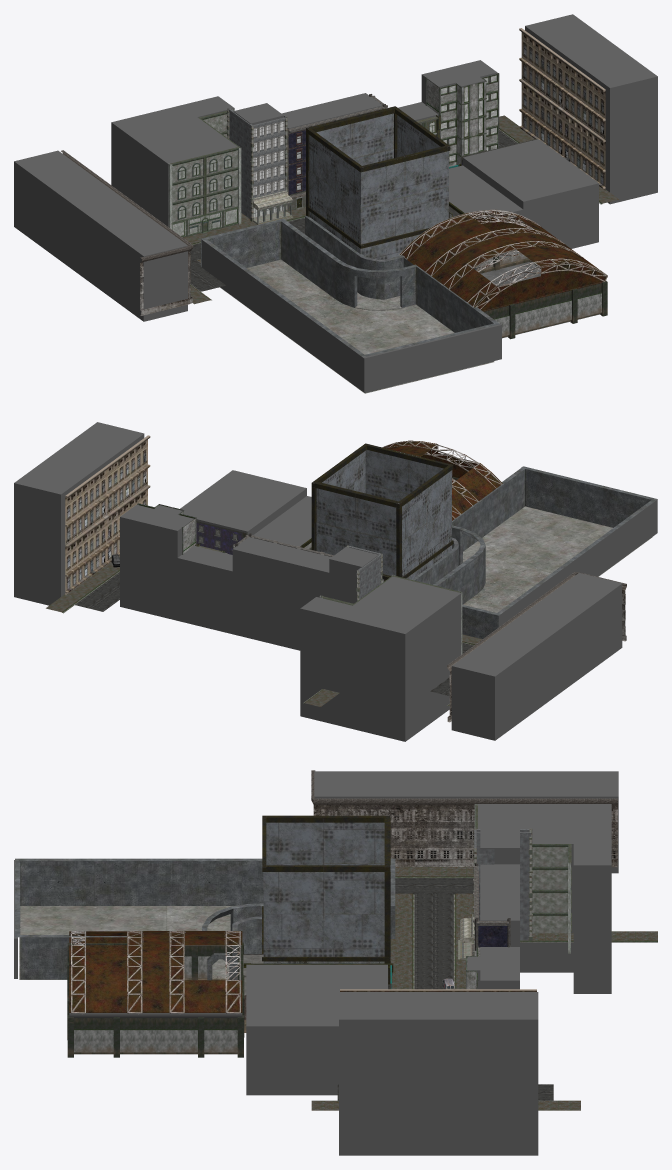
File: ghost_city.glb
3 renders of one model, top to bottom at view 1: azimuth 30°, elevation 25°; view 2: azimuth 150°, elevation 25°; view 3: azimuth 270°, elevation 25°, orthographic. The views are drawn at different scales.
Visible parts, largest first — view 1: BAKE_29, BLD_L_gedungM_26, BLD_L_gedungM_wall_28, BLD_L_gedungK_atap_19, BLD_L_gedungH_17, BLD_L_gedungM_floor_27, BLD_L_gedungF_15, BLD_L_gedungD_7, BLD_L_gedungK_dinding_21, BLD_L_gedungA_0, BLD_STR_jalanan_1_8, BLD_L_gedungI_18 (+6 smaller); view 2: BAKE_29, BLD_L_gedungM_26, BLD_L_gedungM_wall_28, BLD_L_gedungM_floor_27, BLD_L_gedungH_17, BLD_L_gedungK_atap_19, BLD_STR_jalanan_1_8, BLD_STR_jalanan_2_9, BLD_L_gedungI_18, BLD_L_gedungG_16, BLD_L_gedungA_0, BLD_L_gedungD_7; view 3: BAKE_29, BLD_L_gedungM_26, BLD_L_gedungM_wall_28, BLD_L_gedungK_atap_19, BLD_L_gedungI_18, BLD_L_gedungK_dinding_21, BLD_STR_jalanan_1_8, BLD_L_gedungM_floor_27, BLD_STR_jalanan_2_9, BLD_L_gedungF_15, BLD_L_gedungA_0, BLD_L_gedungA_part2_2 (+3 smaller).
Part boxes in pixels (x1,y1,x2,y2): BAKE_29: [14, 14, 657, 392]; BLD_L_gedungM_26: [306, 106, 450, 259]; BLD_L_gedungM_wall_28: [201, 216, 499, 392]; BLD_L_gedungK_atap_19: [399, 209, 607, 311]; BLD_L_gedungH_17: [519, 28, 605, 190]; BLD_L_gedungM_floor_27: [220, 259, 494, 393]; BLD_L_gedungF_15: [168, 109, 241, 237]; BLD_L_gedungD_7: [425, 73, 499, 166]; BLD_L_gedungK_dinding_21: [477, 228, 607, 339]; BLD_L_gedungA_0: [228, 108, 286, 218]; BLD_STR_jalanan_1_8: [183, 115, 618, 304]; BLD_L_gedungI_18: [61, 150, 193, 315]; BAKE_29: [14, 422, 657, 741]; BLD_L_gedungM_26: [311, 443, 453, 582]; BLD_L_gedungM_wall_28: [412, 466, 657, 639]; BLD_L_gedungM_floor_27: [463, 506, 652, 612]; BLD_L_gedungH_17: [65, 435, 150, 594]; BLD_L_gedungK_atap_19: [382, 440, 502, 520]; BLD_STR_jalanan_1_8: [46, 555, 481, 706]; BLD_STR_jalanan_2_9: [75, 572, 473, 695]; BLD_L_gedungI_18: [447, 572, 626, 722]; BLD_L_gedungG_16: [196, 521, 247, 554]; BLD_L_gedungA_0: [346, 545, 381, 599]; BLD_L_gedungD_7: [137, 503, 196, 554]; BAKE_29: [14, 771, 618, 1155]; BLD_L_gedungM_26: [262, 815, 390, 984]; BLD_L_gedungM_wall_28: [15, 858, 395, 980]; BLD_L_gedungK_atap_19: [69, 931, 242, 1014]; BLD_L_gedungI_18: [311, 770, 617, 867]; BLD_L_gedungK_dinding_21: [67, 942, 246, 1057]; BLD_STR_jalanan_1_8: [311, 867, 657, 1110]; BLD_L_gedungM_floor_27: [19, 906, 232, 979]; BLD_STR_jalanan_2_9: [337, 878, 553, 1100]; BLD_L_gedungF_15: [474, 804, 571, 953]; BLD_L_gedungA_0: [474, 829, 531, 940]; BLD_L_gedungA_part2_2: [458, 828, 532, 959].
Bounding box in the file's own units: 127 × 34.28 × 115.
Materials: 30 (29 with a texture image).
